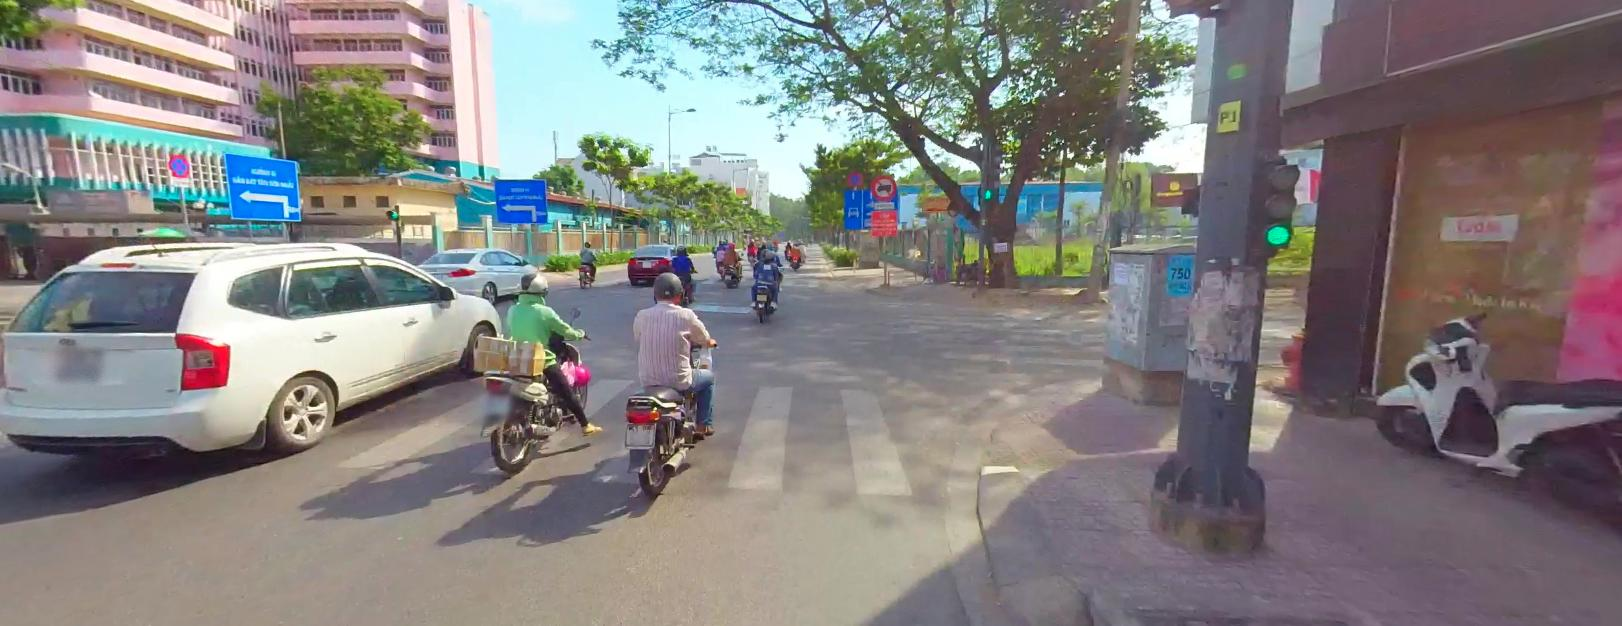Cam con lai: (871, 174, 896, 198)
Cam dung va do: (847, 170, 862, 185)
